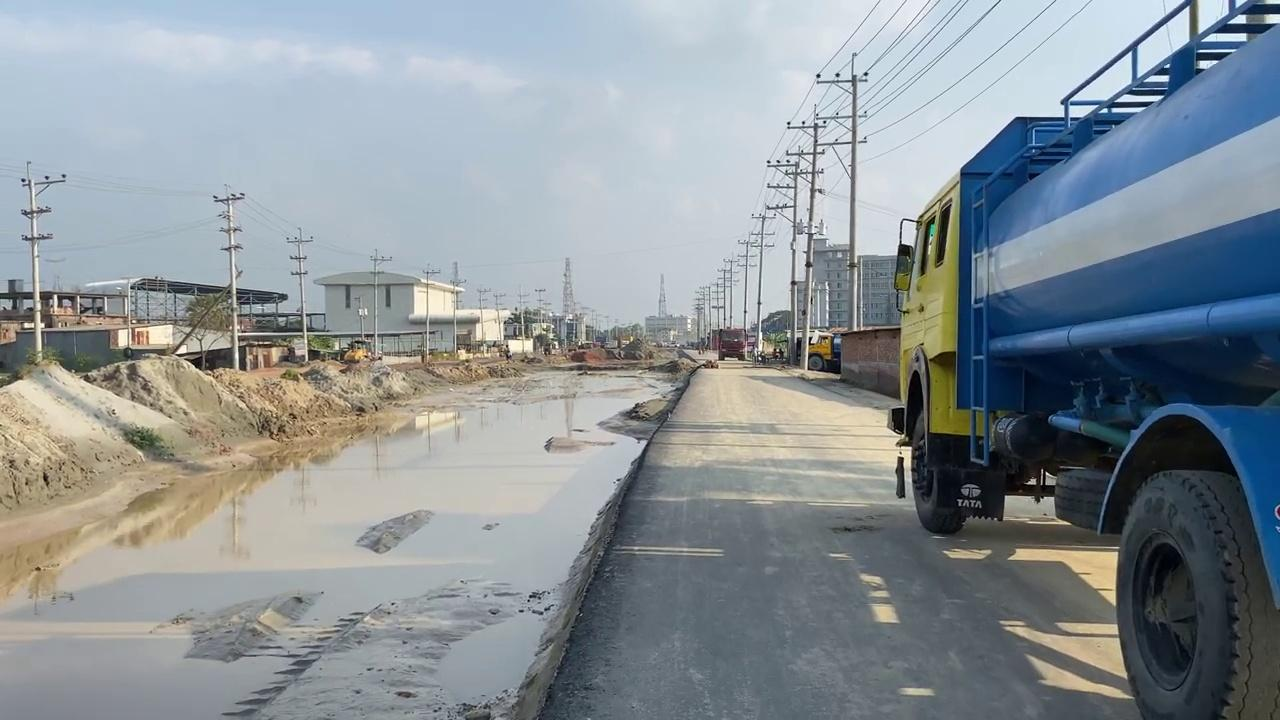Curb: (507, 357, 705, 717)
Pole: (816, 51, 868, 330), (18, 161, 65, 362), (213, 186, 245, 369), (286, 226, 312, 362), (369, 248, 392, 356), (421, 265, 440, 362), (448, 261, 465, 355)
Rickshaw: (535, 356, 1165, 718)
Sidewalk: (1, 360, 687, 718)
Tree: (339, 295, 382, 363), (798, 330, 841, 372), (716, 328, 747, 360), (340, 339, 381, 363)
